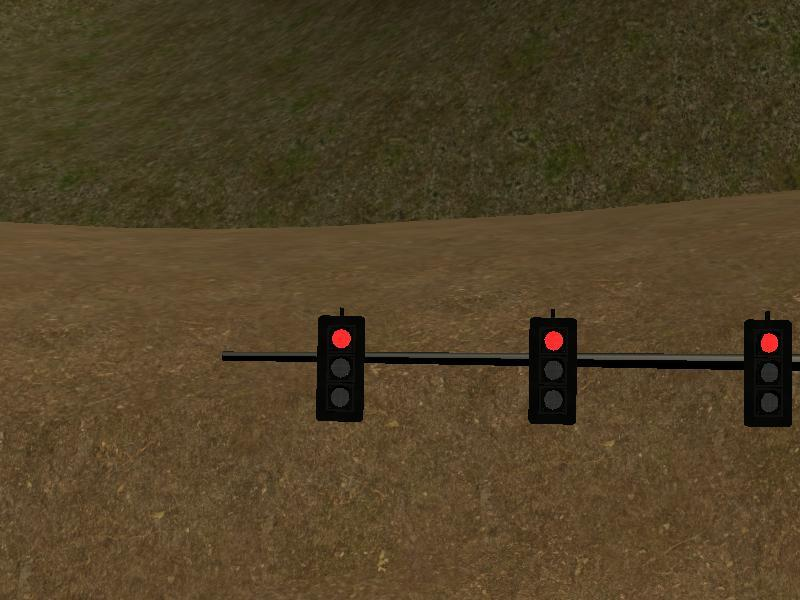Red: (749, 319, 792, 424), (320, 317, 360, 423), (533, 320, 573, 425)
